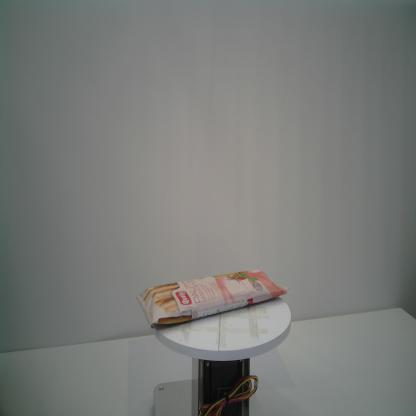Dessert: (134, 267, 290, 332)
